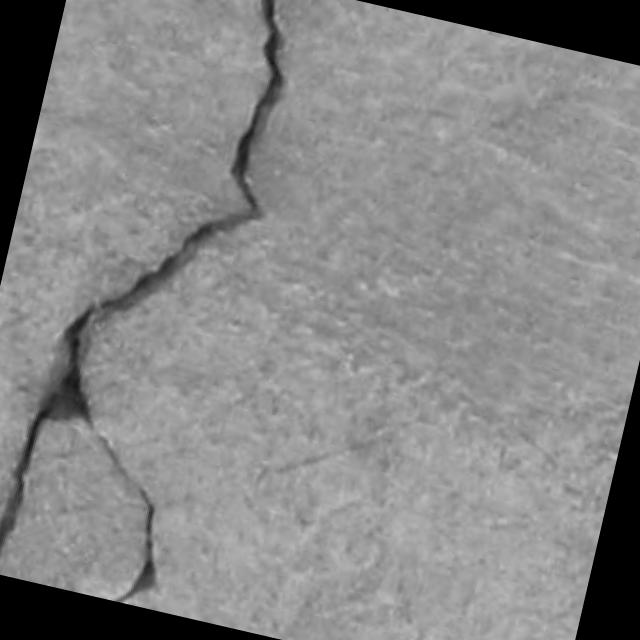crack: (0, 0, 282, 556)
